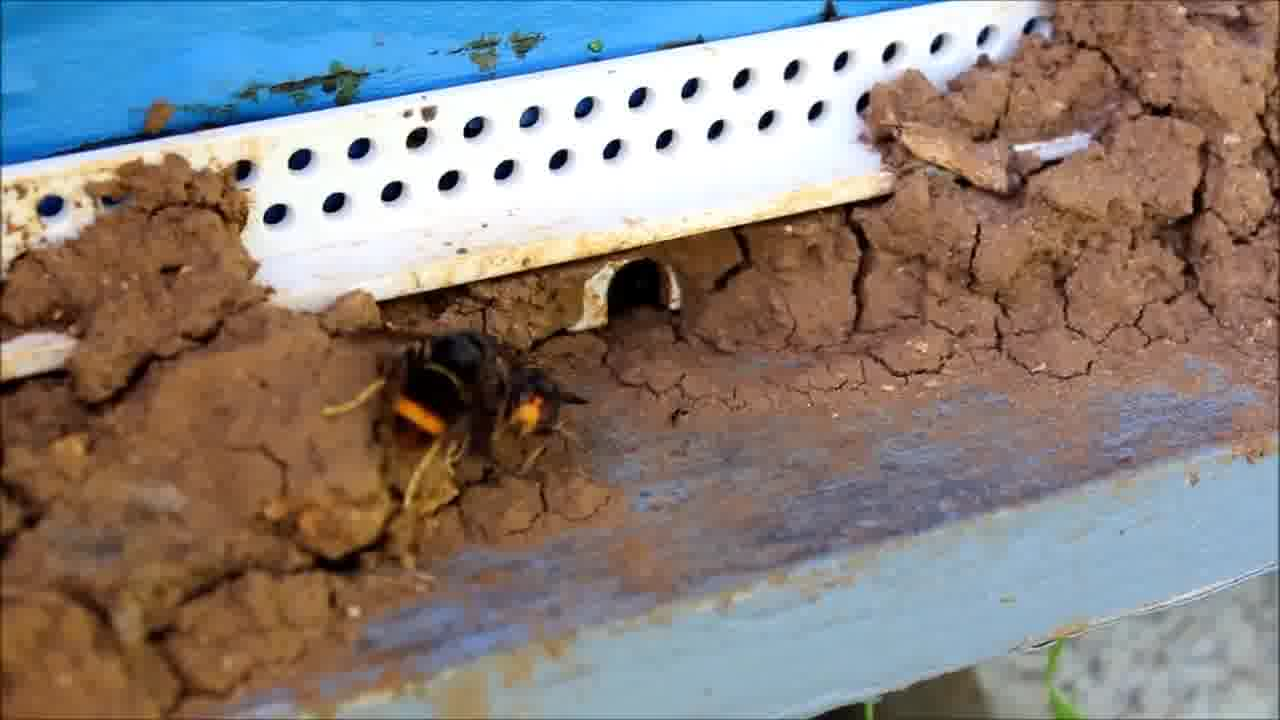hornet: (365, 324, 511, 452), (465, 345, 604, 446)
